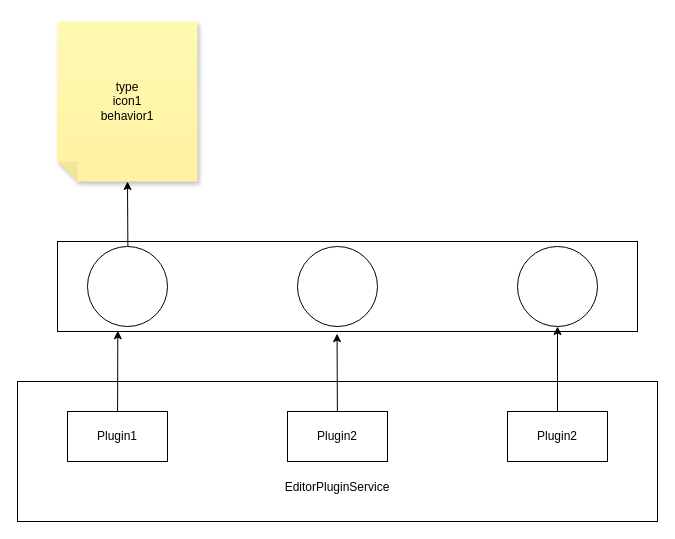
Some shapes in this 675 by 539 pixel diagram are drawn without their labels. Each missing label, with the centre of its shape:
"trigger1" belongs at point (127, 286).
"trigger2" belongs at point (337, 286).
"trigger3" belongs at point (557, 286).
